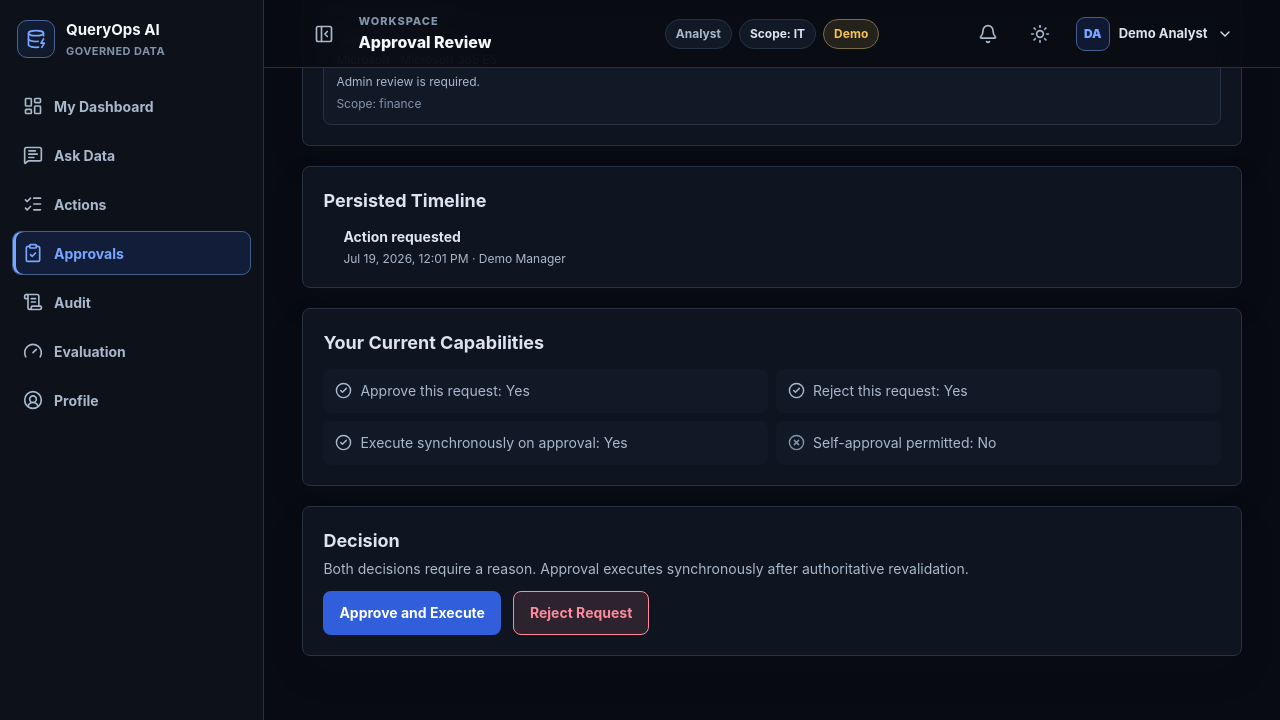
Test: ApprovalDetailPage › requires a bounded reason and CSRF before approval
This screenshot has width=1280, height=720.
(page scrolled)
Click the button "Approve and Execute": (412, 613) [323,591,501,635]
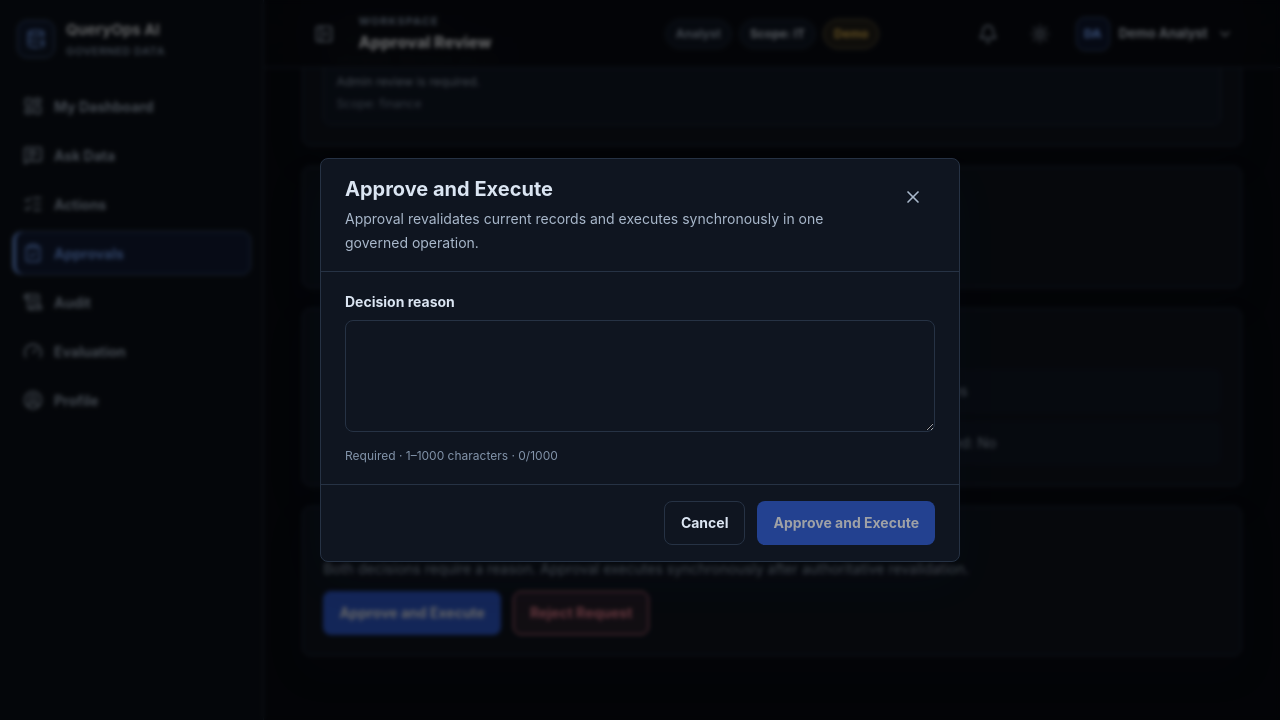
Check: the button "Approve and Execute" is disabled, box [758,501,935,545]
In the text box labelled "Decision reason": (640, 376) [345,320,935,432], type "Reviewed current context"
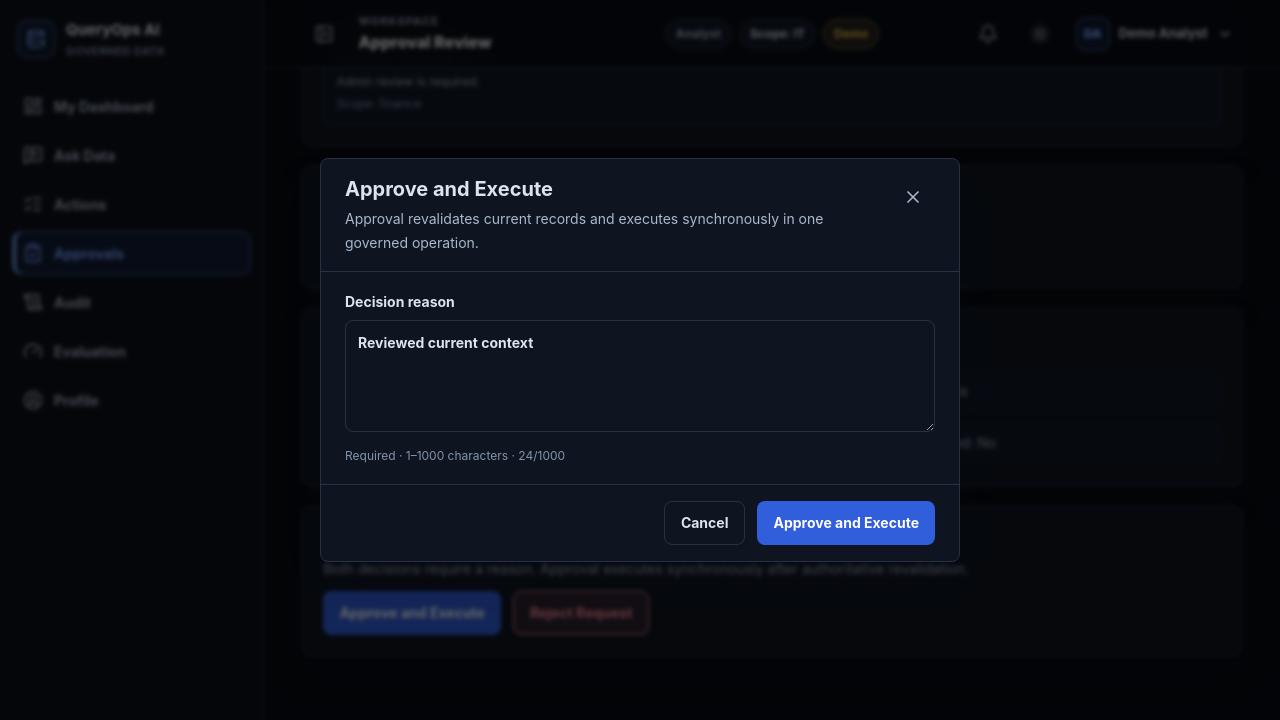
Click the button "Approve and Execute": (846, 523) [758,501,935,545]
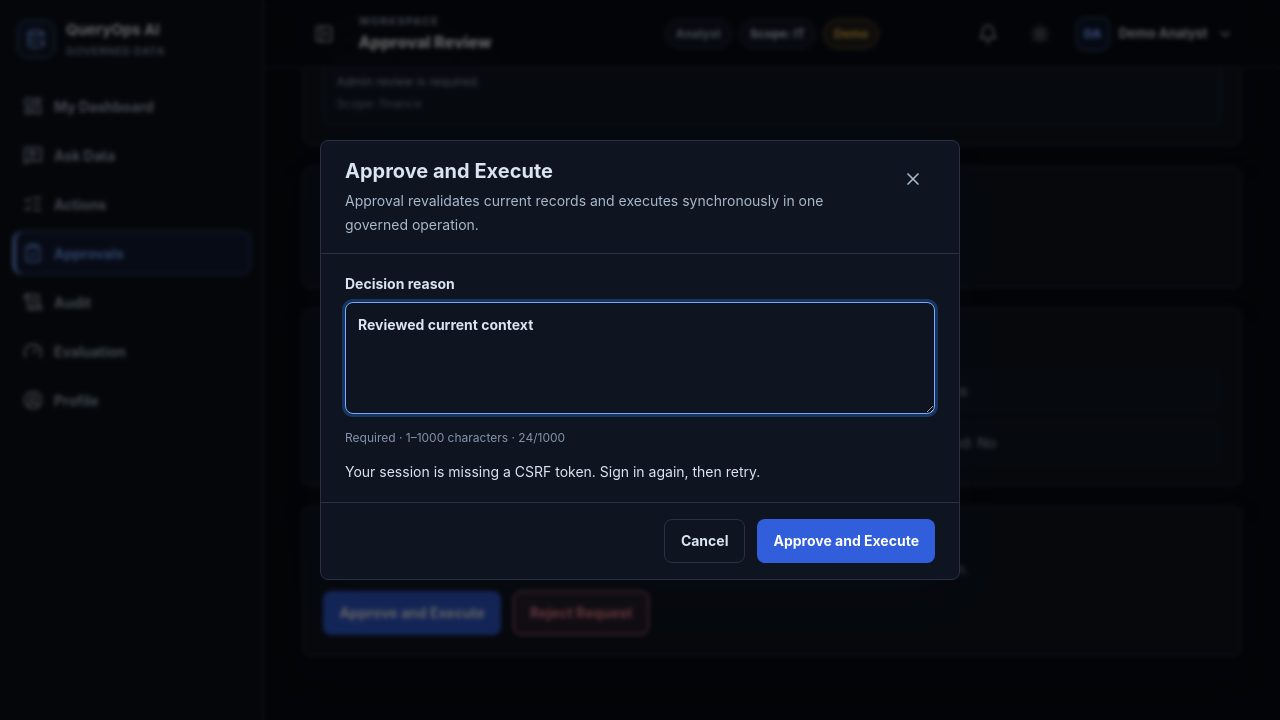
Check: the message shows "missing a CSRF token", box [345,463,760,480]
